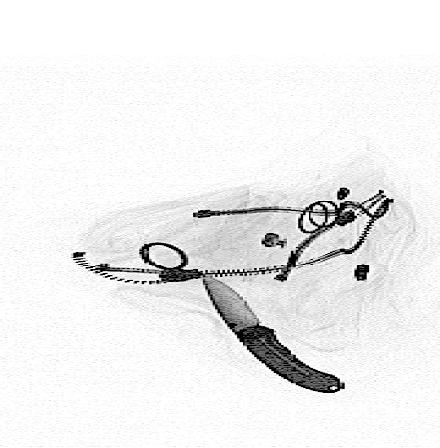Knife: (198, 271, 351, 397)
